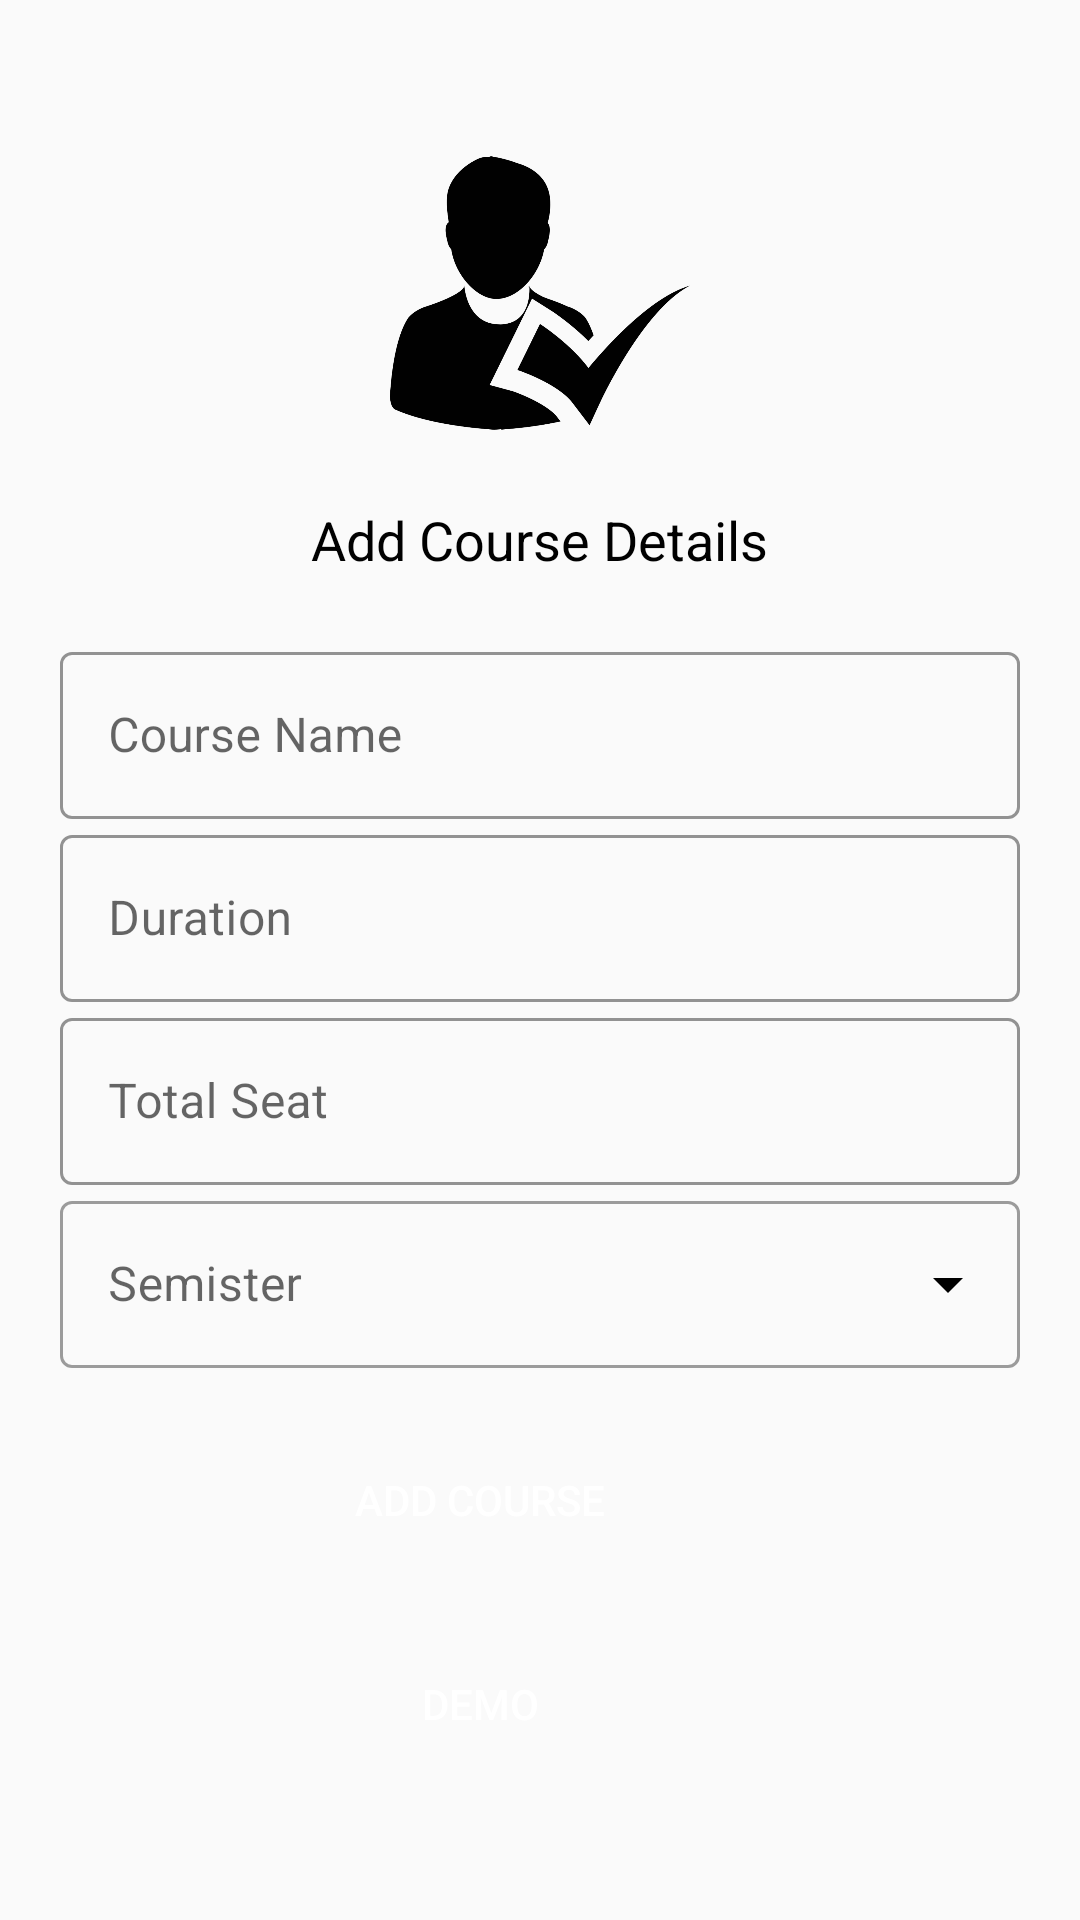

Named icons in this screenshot (1080 × 1920) and their bounding boxes, (x1, y1, x2, y2):
attendance: (390, 156, 689, 430)
